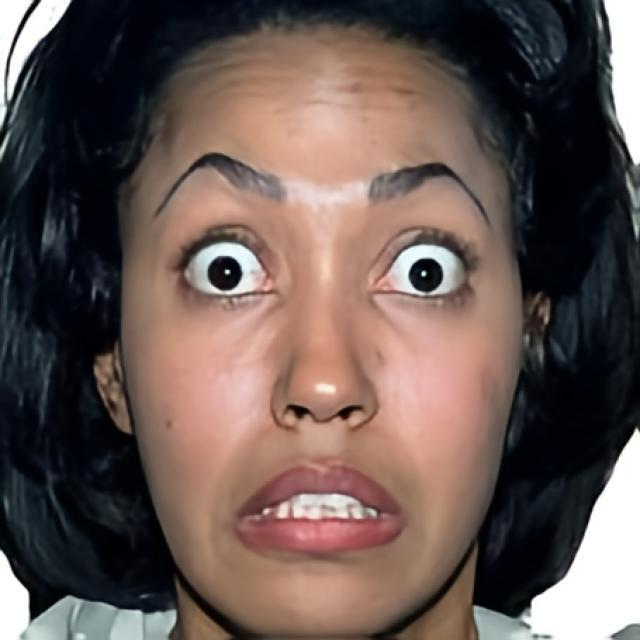Fear: (121, 22, 526, 640)
